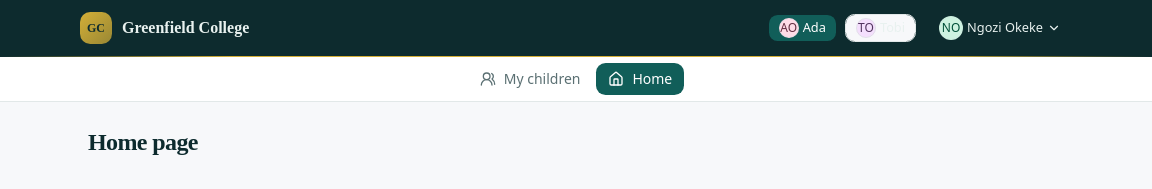
Scenario: PortalShell on a desktop › shows the username in the menu header for a login without a real email
The image size is (1152, 189).
Expected: the header is shown, [0,0,1151,57]
Click the button "NO Ngozi Okeke" at (1000, 28), box [928,14,1072,42]
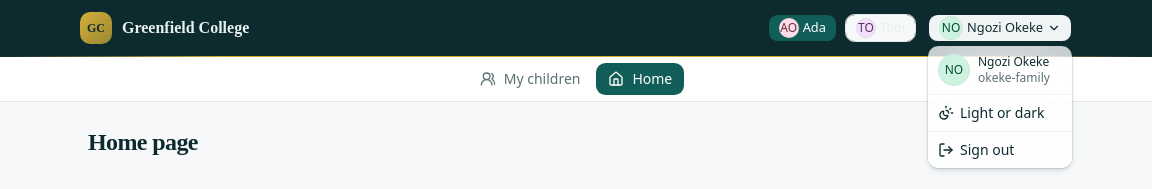
Now the text "okeke-family" is shown, box [978,70,1050,86]
